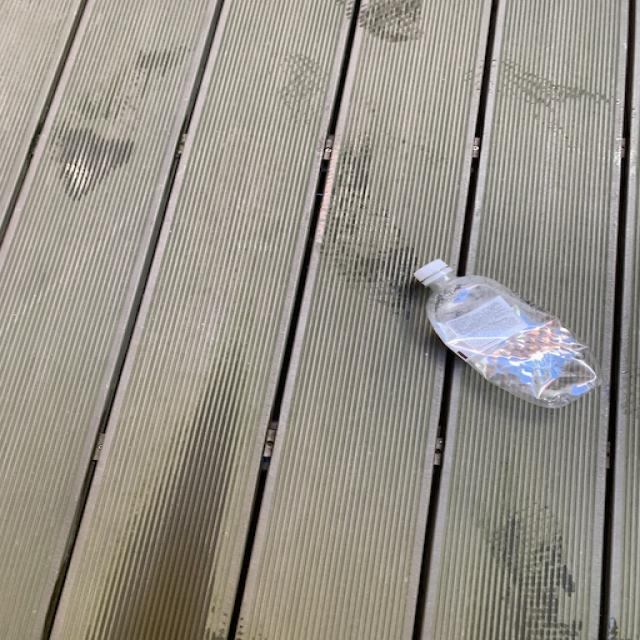Waste: (415, 260, 602, 408)
